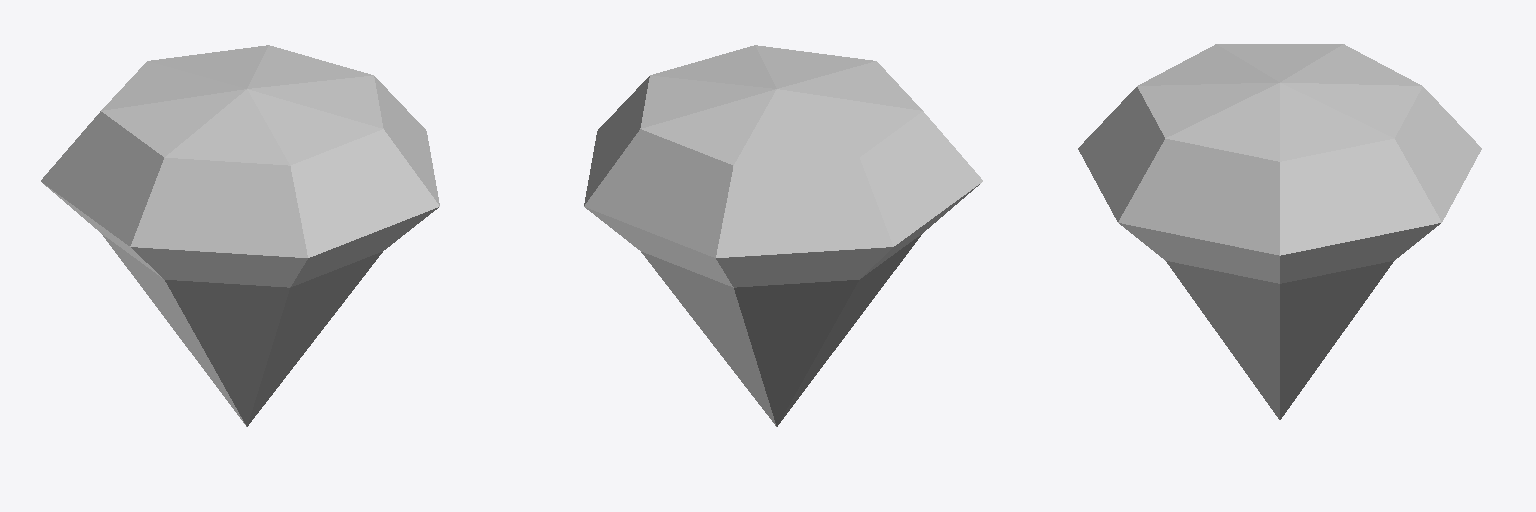
The model's file is diamond.obj.
The picture shows the model from 3 angles: view 1: azimuth 30°, elevation 25°; view 2: azimuth 150°, elevation 25°; view 3: azimuth 270°, elevation 25°; orthographic projection.
Visible parts, largest first — view 1: pSphere1; view 2: pSphere1; view 3: pSphere1.
Boxes of the visible parts, box(x1,y1,x2,y2) form: pSphere1: box(41, 45, 439, 426); pSphere1: box(584, 45, 982, 426); pSphere1: box(1078, 44, 1481, 419).
Bounding box in the file's own units: 8.81 × 8.34 × 9.04.